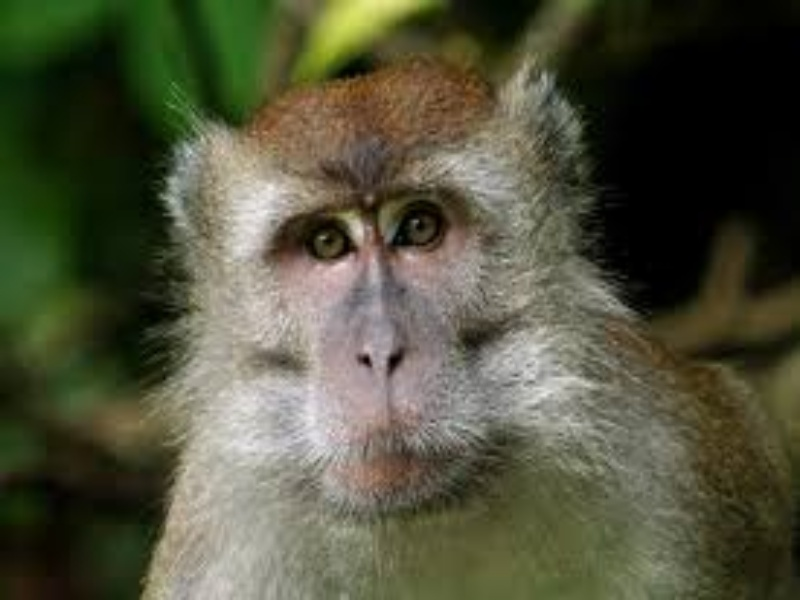monkey: (104, 51, 759, 587)
